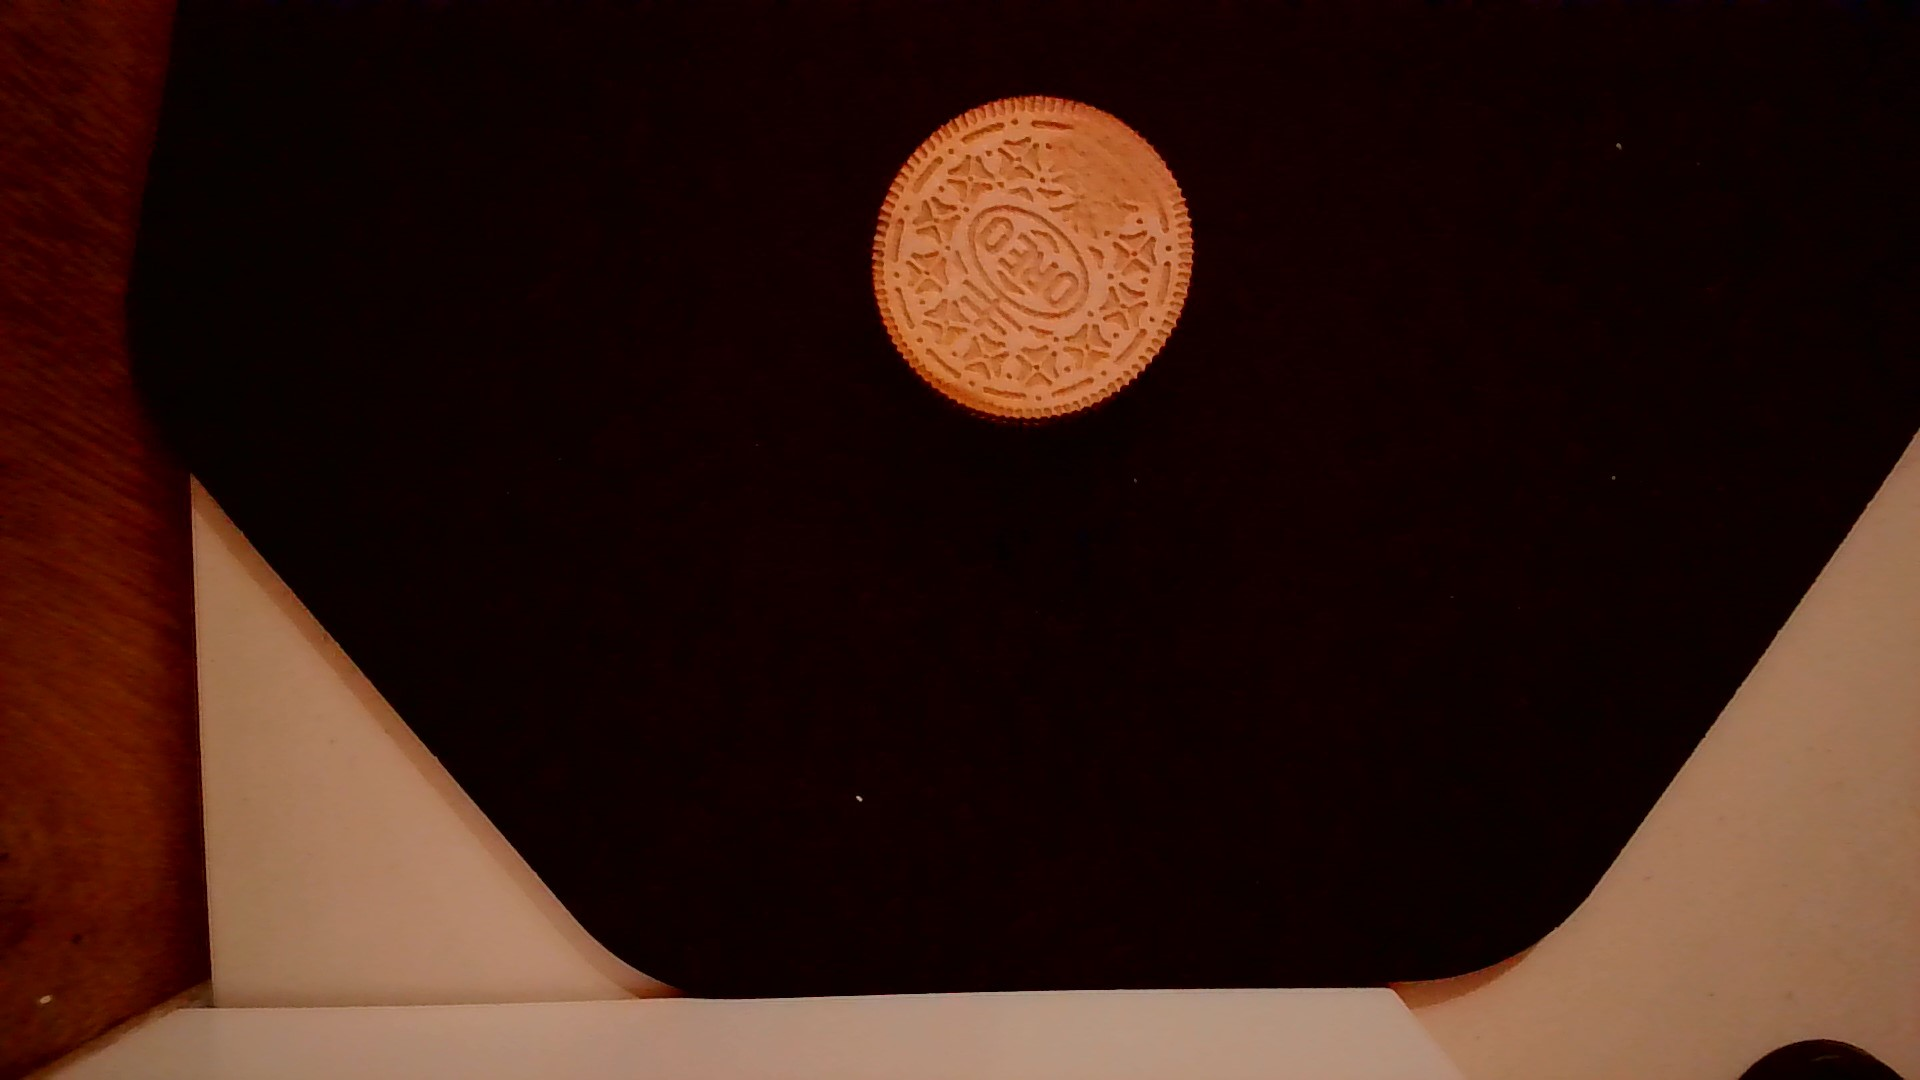Effacé: (1060, 112, 1164, 219)
Oréo: (856, 86, 1201, 431)
